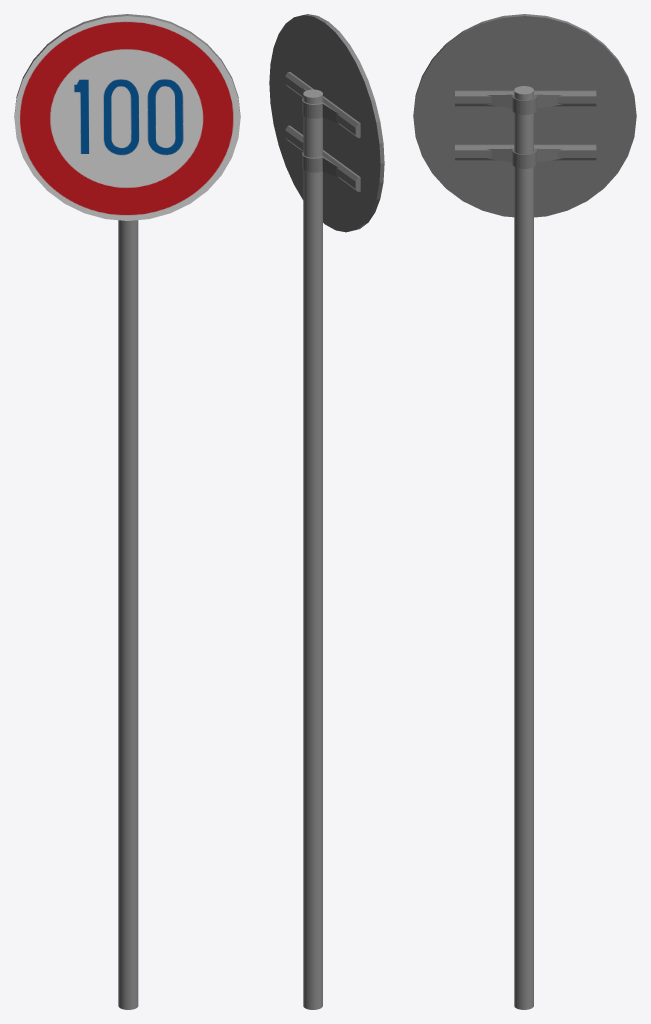
3 renders of one model, left to right at view 1: azimuth 90°, elevation 25°; view 2: azimuth 210°, elevation 25°; view 3: azimuth 270°, elevation 25°, orthographic.
Visible parts, largest first — view 1: 025-100, Prop; view 2: Prop, 025-100; view 3: 025-100, Prop.
Part boxes in pixels (bbox=[...]): 025-100: bbox=[14, 14, 240, 220]; Prop: bbox=[118, 220, 138, 1009]; Prop: bbox=[285, 72, 360, 1009]; 025-100: bbox=[269, 14, 384, 232]; 025-100: bbox=[413, 14, 636, 217]; Prop: bbox=[455, 86, 596, 1009].
Bounding box in the file's own units: 6.76 × 253 × 52.01.
